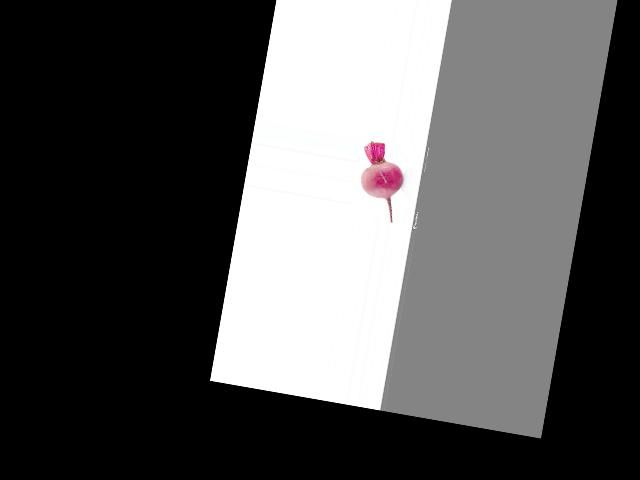beet: (352, 139, 409, 222)
